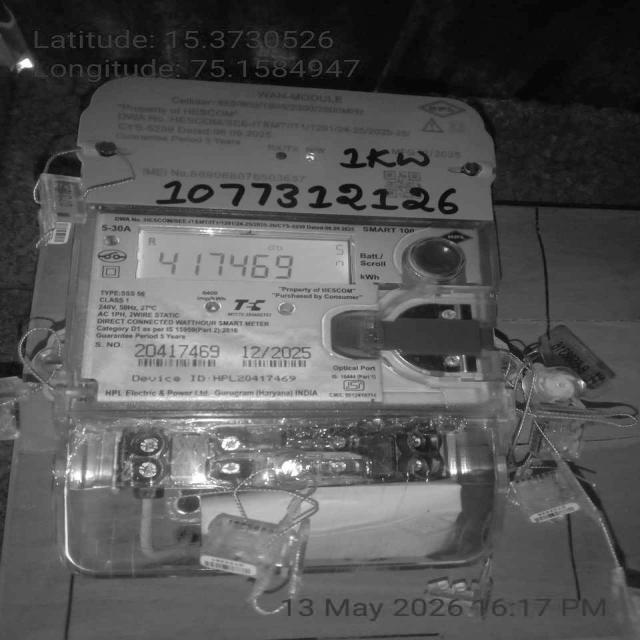meter: (80, 75, 499, 405)
